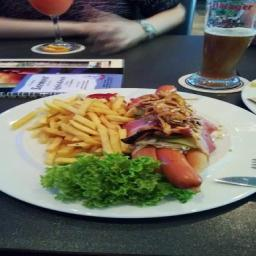hotdog: (121, 85, 208, 189)
